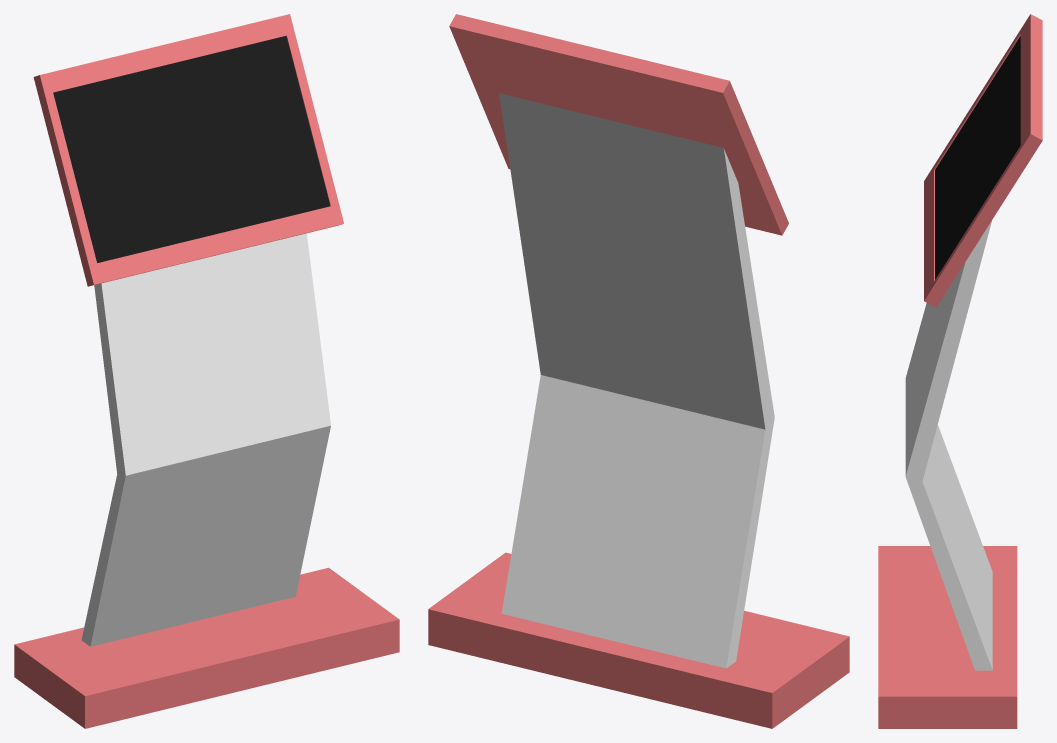
File: tab_display_1.fbx
3 views of the same model, side by side, from view 1: azimuth 30°, elevation 25°; view 2: azimuth 150°, elevation 25°; view 3: azimuth 270°, elevation 25° (orthographic). The views are drawn at different scales.
Visible parts, largest first — view 1: tab_display_1; view 2: tab_display_1; view 3: tab_display_1.
Boxes of the visible parts, bbox=[...] form: tab_display_1: bbox=[14, 14, 399, 728]; tab_display_1: bbox=[428, 14, 849, 728]; tab_display_1: bbox=[878, 14, 1042, 728].
Size of the model in its own units: 50.28 by 90.03 by 23.18.
2 materials, 2 textured.
